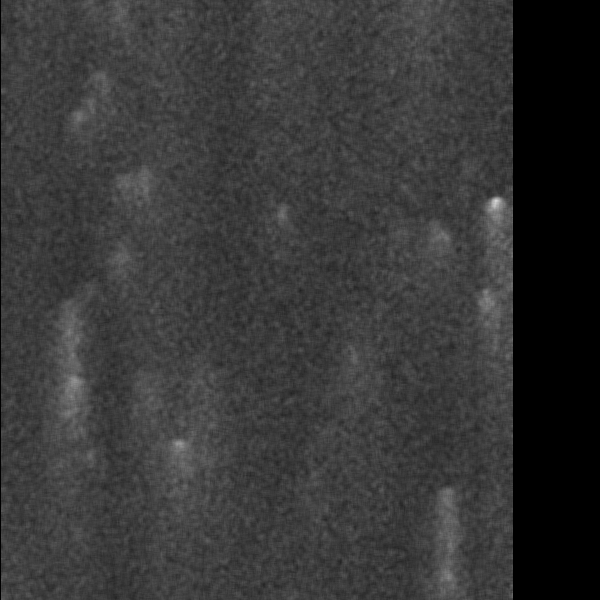spark: (62, 305, 91, 516), (415, 224, 459, 281), (87, 66, 119, 132), (160, 434, 192, 490), (473, 284, 500, 343), (484, 188, 508, 254), (63, 102, 93, 142), (271, 200, 294, 238), (110, 243, 138, 272), (104, 1, 124, 38)
